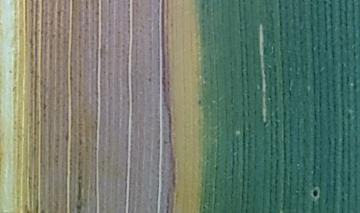tarspot: (310, 186, 322, 200)
